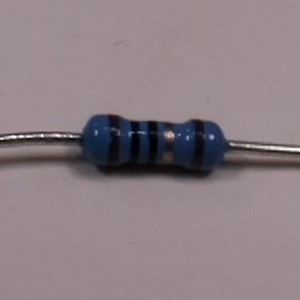black_band: (143, 118, 160, 170), (126, 118, 142, 169)
brown_band: (187, 116, 207, 175), (105, 110, 123, 168)
gold_band: (160, 119, 177, 167)
